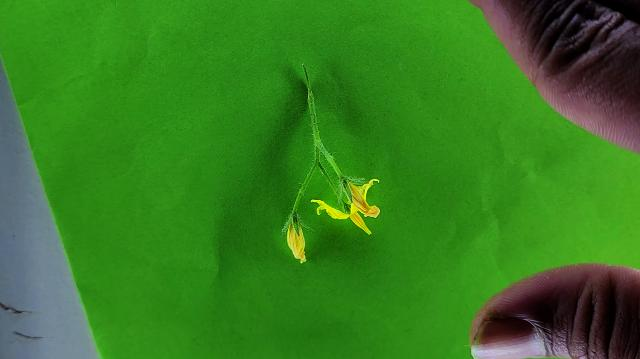Anthesis: (313, 178, 382, 236), (285, 217, 307, 265)
